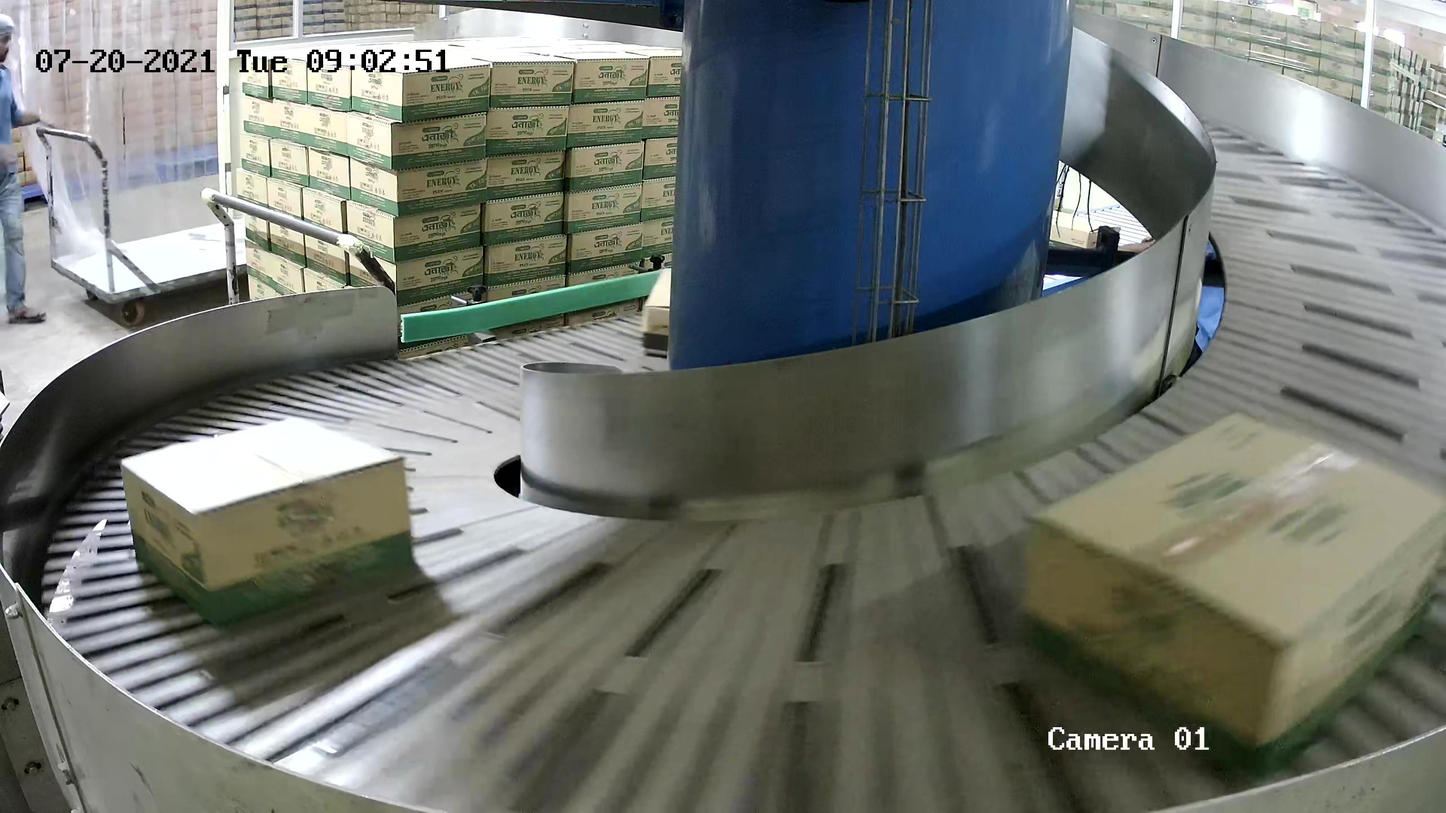Box: (1013, 407, 1446, 782), (117, 414, 419, 631), (641, 268, 672, 358)
